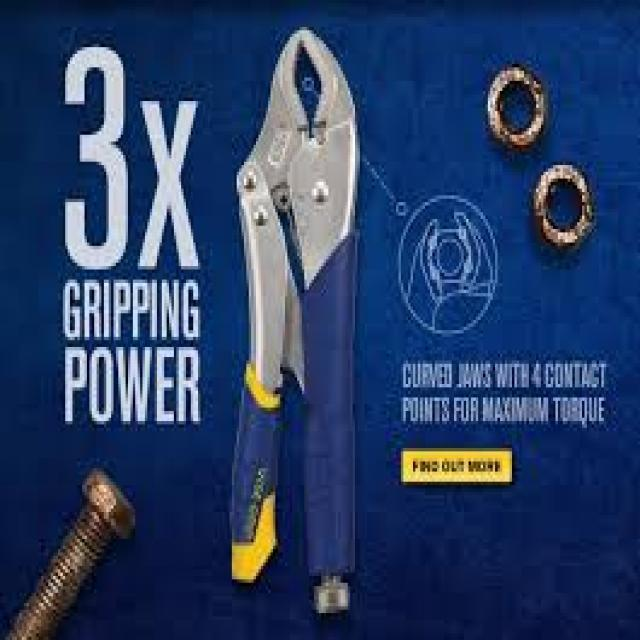pliers: (224, 23, 365, 625)
